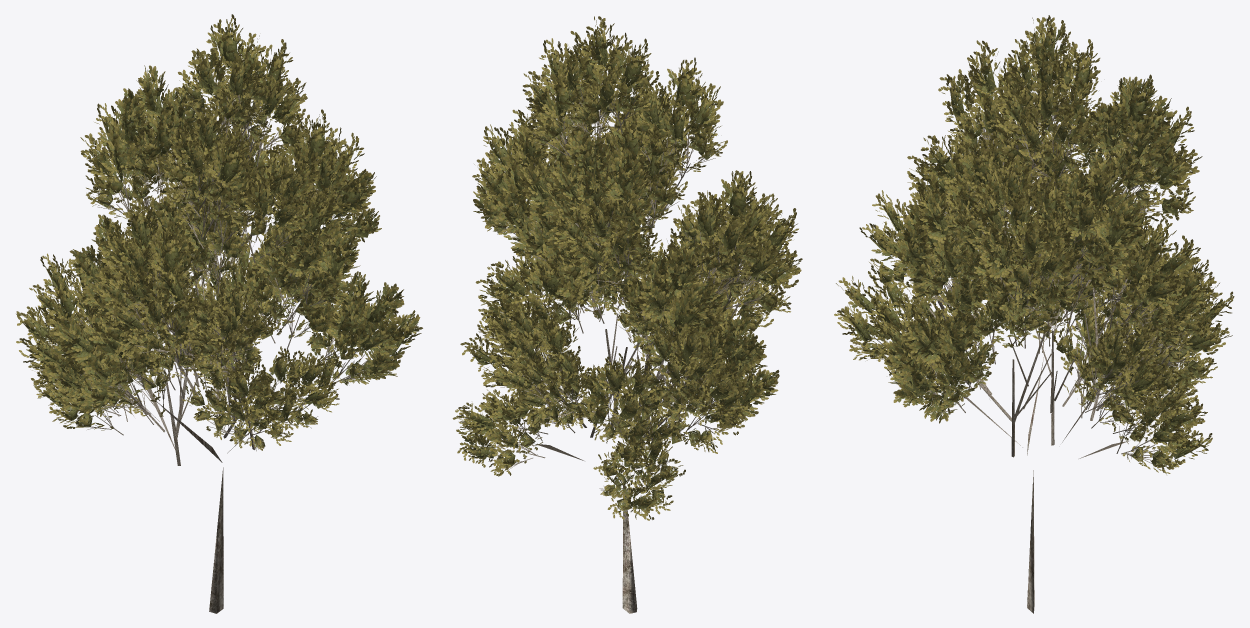
File: urban-round.glb
3 views of the same model, side by side, from view 1: azimuth 30°, elevation 25°; view 2: azimuth 150°, elevation 25°; view 3: azimuth 270°, elevation 25° (orthographic). The views are drawn at different scales.
Visible parts, largest first — view 1: Mesh_Folhagem_0 (×3), Mesh_galho fino_0; view 2: Mesh_Folhagem_0 (×3), Mesh_galho fino_0; view 3: Mesh_Folhagem_0 (×3), Mesh_galho fino_0.
Boxes of the visible parts, x1,y1,x2,y2 form: Mesh_Folhagem_0 (×3): (16, 14, 422, 450); Mesh_galho fino_0: (51, 89, 377, 613); Mesh_Folhagem_0 (×3): (452, 16, 802, 520); Mesh_galho fino_0: (488, 88, 771, 613); Mesh_Folhagem_0 (×3): (834, 15, 1234, 474); Mesh_galho fino_0: (870, 71, 1196, 613).
Bounding box in the file's own units: 3.19 × 5.77 × 3.45.
2 materials, 2 textured.
